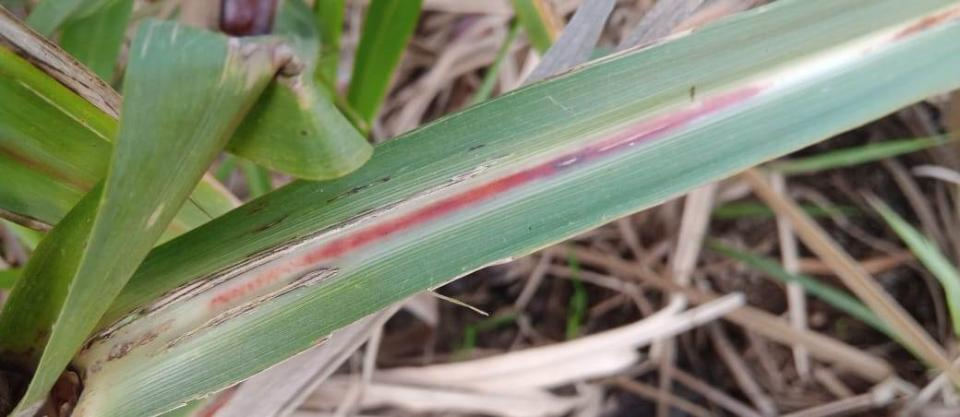RedRot: (204, 79, 780, 310), (888, 8, 959, 44)
